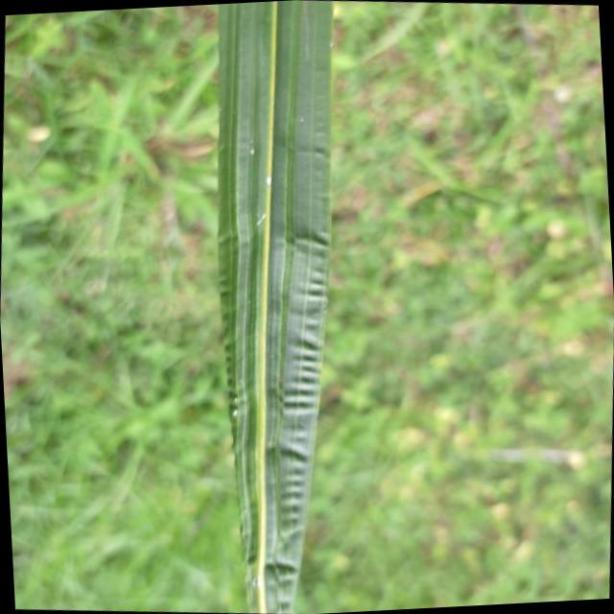Boron: (216, 0, 340, 614)
